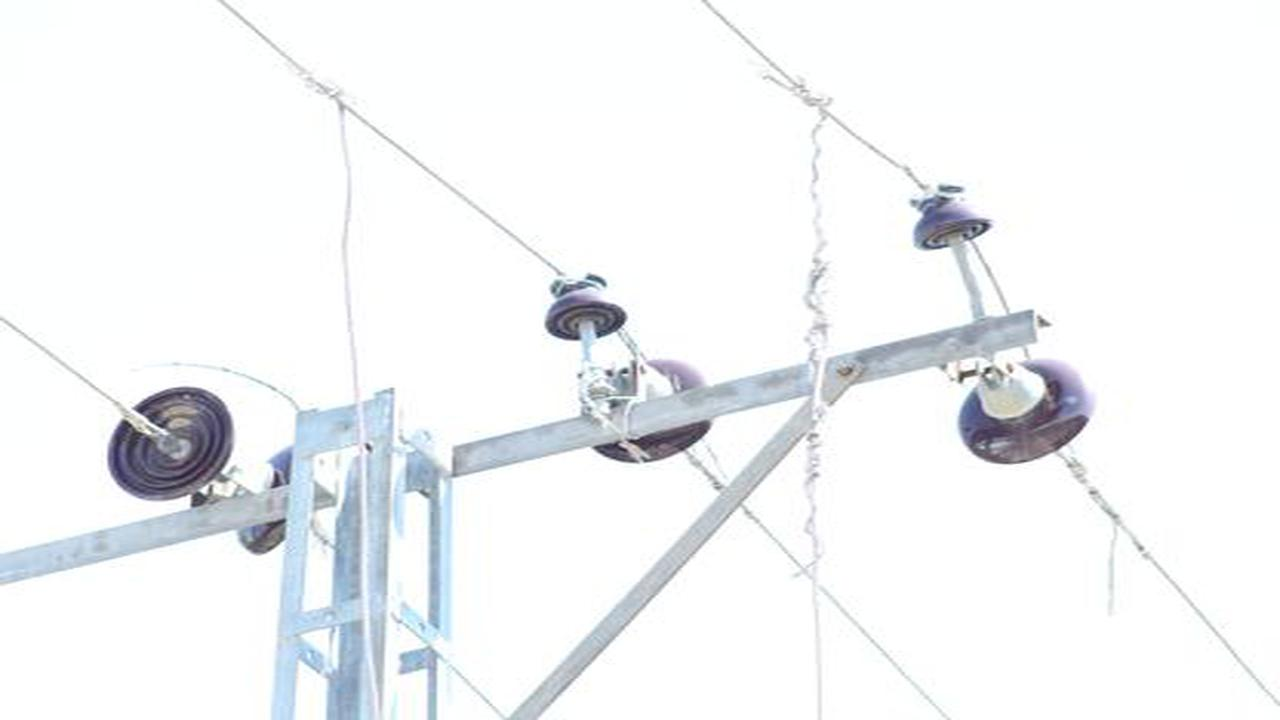insulator_disc: (954, 356, 1098, 467), (106, 386, 240, 504)
insulator_pin: (897, 178, 993, 254), (541, 268, 635, 342)
